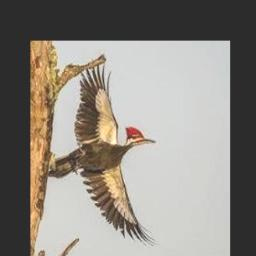Woodpecker: (46, 62, 158, 248)
